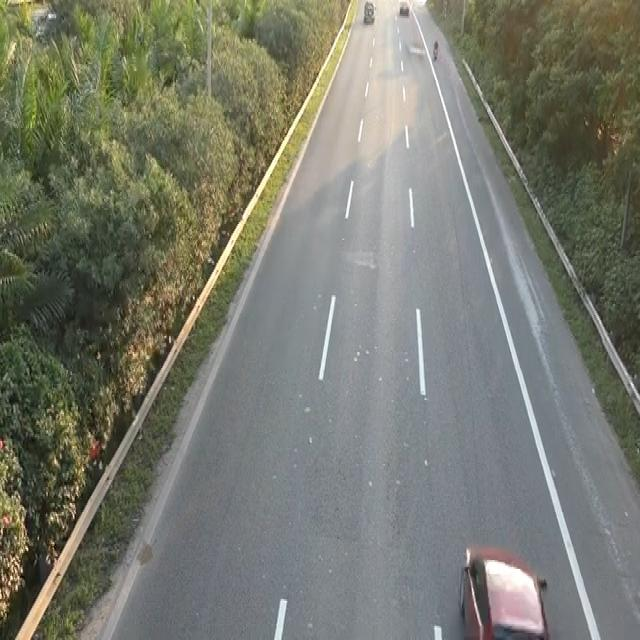bus: (456, 538, 551, 636)
car: (362, 0, 375, 23)
minibus: (431, 38, 439, 61)
